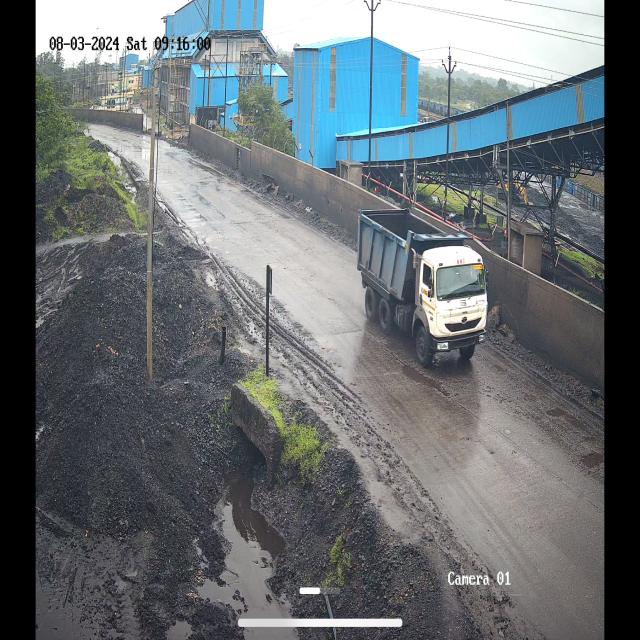dump_truck: (365, 203, 492, 379)
